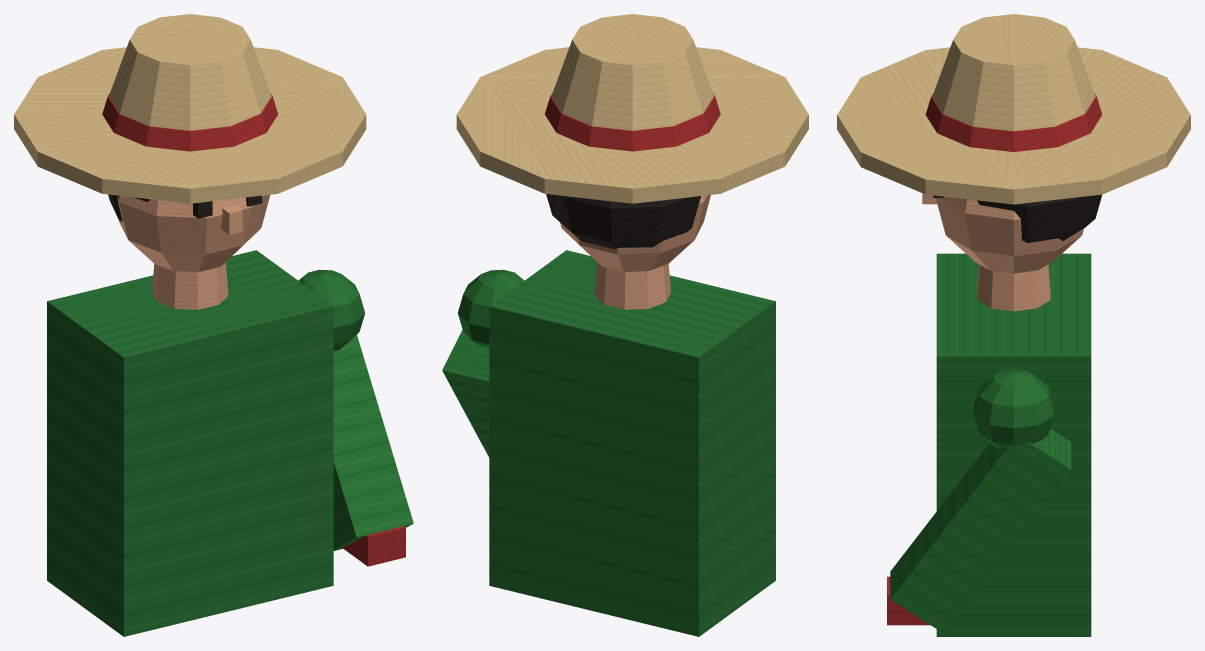
Rendered from vela_p_torso.obj.
The picture shows the model from 3 angles, left to right: view 1: azimuth 30°, elevation 25°; view 2: azimuth 150°, elevation 25°; view 3: azimuth 270°, elevation 25°; orthographic projection.
Visible parts, largest first — view 1: vela_p_torso; view 2: vela_p_torso; view 3: vela_p_torso.
Part boxes in pixels (x1,y1,x2,y2): vela_p_torso: (14, 14, 413, 636); vela_p_torso: (442, 14, 808, 636); vela_p_torso: (837, 14, 1190, 636).
Size of the model in its own units: 0.338 by 0.545 by 0.32.
Materials: 1 (1 with a texture image).
